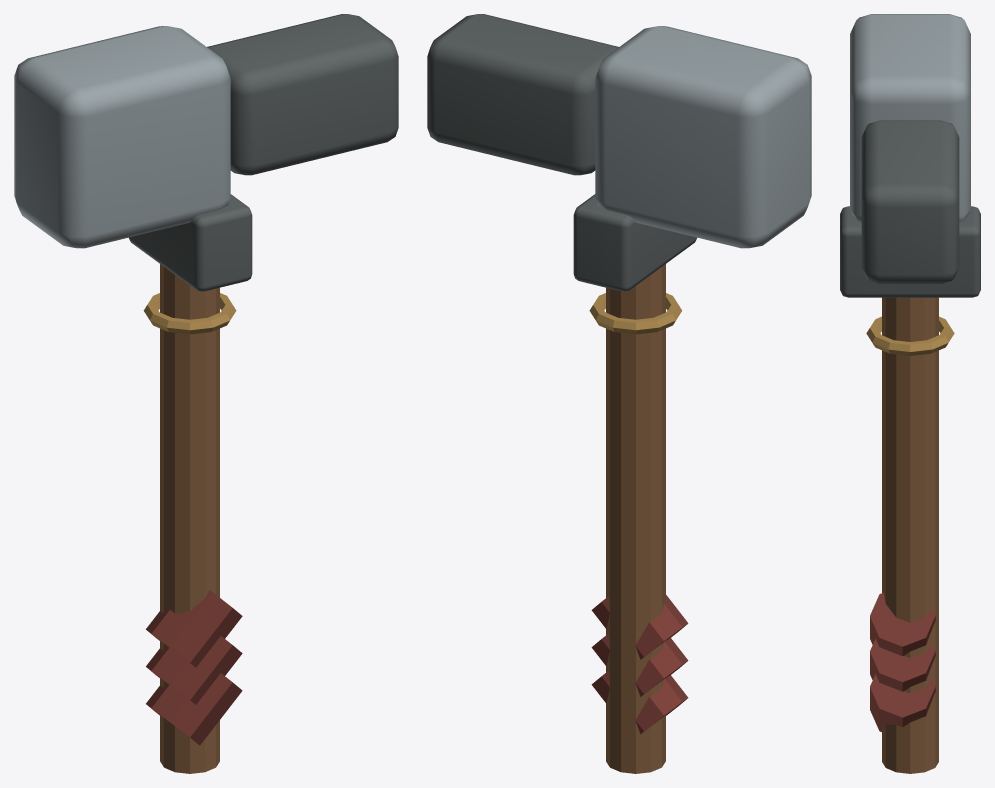
The model's file is bellfound_maul.glb.
3 views of the same model, side by side, from view 1: azimuth 30°, elevation 25°; view 2: azimuth 150°, elevation 25°; view 3: azimuth 270°, elevation 25° (orthographic). The views are drawn at different scales.
Visible parts, largest first — view 1: Square maul face, Tapered peen, Ash maul haft, Head wedge, Grip leather wrap.002, Grip leather wrap, Grip leather wrap.001, Brass anti-rattle ring; view 2: Square maul face, Ash maul haft, Tapered peen, Head wedge, Grip leather wrap.002, Grip leather wrap, Brass anti-rattle ring, Grip leather wrap.001; view 3: Ash maul haft, Tapered peen, Square maul face, Head wedge, Grip leather wrap.002, Grip leather wrap, Grip leather wrap.001, Brass anti-rattle ring.
Boxes of the visible parts, bbox=[...] form: Square maul face: bbox=[14, 26, 230, 248]; Tapered peen: bbox=[207, 14, 398, 175]; Ash maul haft: bbox=[160, 264, 219, 773]; Head wedge: bbox=[129, 194, 252, 291]; Grip leather wrap.002: bbox=[146, 590, 242, 667]; Grip leather wrap: bbox=[146, 673, 242, 745]; Grip leather wrap.001: bbox=[146, 636, 242, 704]; Brass anti-rattle ring: bbox=[143, 293, 236, 334]; Square maul face: bbox=[595, 26, 811, 248]; Ash maul haft: bbox=[606, 264, 665, 773]; Tapered peen: bbox=[427, 14, 618, 175]; Head wedge: bbox=[573, 194, 696, 291]; Grip leather wrap.002: bbox=[591, 595, 688, 659]; Grip leather wrap: bbox=[591, 671, 688, 734]; Brass anti-rattle ring: bbox=[589, 293, 682, 334]; Grip leather wrap.001: bbox=[591, 633, 688, 696]; Ash maul haft: bbox=[882, 297, 938, 773]; Tapered peen: bbox=[861, 120, 959, 283]; Square maul face: bbox=[850, 14, 970, 221]; Head wedge: bbox=[840, 206, 980, 297]; Grip leather wrap.002: bbox=[870, 592, 935, 656]; Grip leather wrap: bbox=[870, 674, 935, 731]; Grip leather wrap.001: bbox=[870, 639, 935, 691]; Brass anti-rattle ring: bbox=[866, 316, 954, 355].
Bounding box in the file's own units: 0.965 × 1.93 × 0.36.
